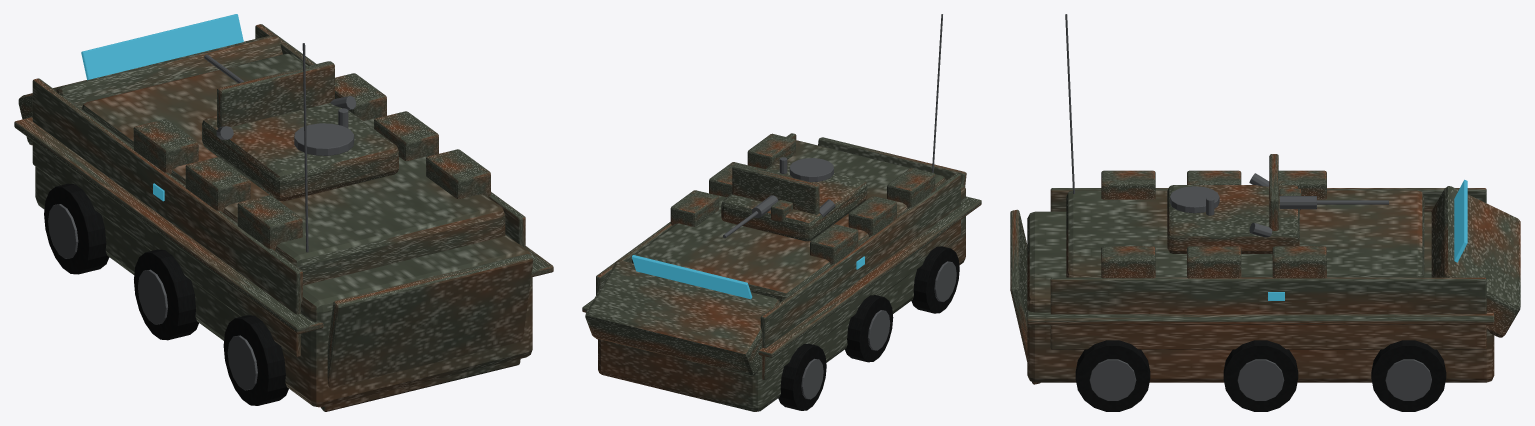
Rendered from apc.glb.
3 renders of one model, left to right at view 1: azimuth 30°, elevation 25°; view 2: azimuth 150°, elevation 25°; view 3: azimuth 270°, elevation 25°, orthographic. The views are drawn at different scales.
Visible parts, largest first — view 1: UpperHull, RearRamp, SidePlate_-1, LowerHull.001, TurretBase, Fender_-1.001, Glacis.001, TurretShield, Windshield, Wheel_-1_0, Wheel_-1_2, Wheel_-1_1 (+12 smaller); view 2: Glacis.001, UpperHull, SidePlate_-1, LowerHull.001, TurretBase, Fender_-1.001, TurretShield, Windshield, Wheel_-1_0, Wheel_-1_1, Wheel_-1_2, RearRamp (+13 smaller); view 3: SidePlate_1, UpperHull, LowerHull.001, Glacis.001, TurretBase, Fender_1.001, Wheel_1_0, Wheel_1_2, Wheel_1_1, RearRamp, Stowage_1_0.001, Stowage_1_1.001 (+13 smaller).
Boxes of the visible parts, box(x1,y1,x2,y2) form: UpperHull: box(82, 53, 505, 285); RearRamp: box(321, 254, 533, 411); SidePlate_-1: box(32, 78, 302, 357); LowerHull.001: box(35, 166, 532, 407); TurretBase: box(202, 103, 398, 201); Fender_-1.001: box(14, 117, 323, 334); Glacis.001: box(18, 35, 282, 145); TurretShield: box(217, 61, 334, 127); Windshield: box(81, 14, 243, 80); Wheel_-1_0: box(223, 315, 288, 405); Wheel_-1_2: box(44, 183, 109, 274); Wheel_-1_1: box(134, 249, 198, 340); Glacis.001: box(585, 260, 779, 375); UpperHull: box(632, 140, 945, 301); SidePlate_-1: box(760, 173, 960, 379); LowerHull.001: box(598, 180, 965, 411); TurretBase: box(721, 160, 867, 241); Fender_-1.001: box(758, 196, 981, 357); TurretShield: box(732, 164, 819, 214); Windshield: box(632, 255, 752, 299); Wheel_-1_0: box(911, 246, 959, 313); Wheel_-1_1: box(845, 295, 893, 362); Wheel_-1_2: box(778, 343, 826, 410); RearRamp: box(818, 137, 966, 186); SidePlate_1: box(1050, 277, 1486, 349); UpperHull: box(1066, 190, 1424, 277); LowerHull.001: box(1027, 211, 1494, 382); Glacis.001: box(1431, 186, 1520, 337); TurretBase: box(1167, 185, 1299, 253); Fender_1.001: box(1027, 310, 1494, 324); Wheel_1_0: box(1075, 340, 1150, 411); Wheel_1_2: box(1371, 340, 1446, 411); Wheel_1_1: box(1223, 340, 1298, 411); RearRamp: box(1010, 209, 1040, 384); Stowage_1_0.001: box(1101, 246, 1155, 278); Stowage_1_1.001: box(1187, 246, 1241, 278).
Size of the model in its own units: 3.23 by 4.35 by 6.56.
7 materials, 3 textured.
